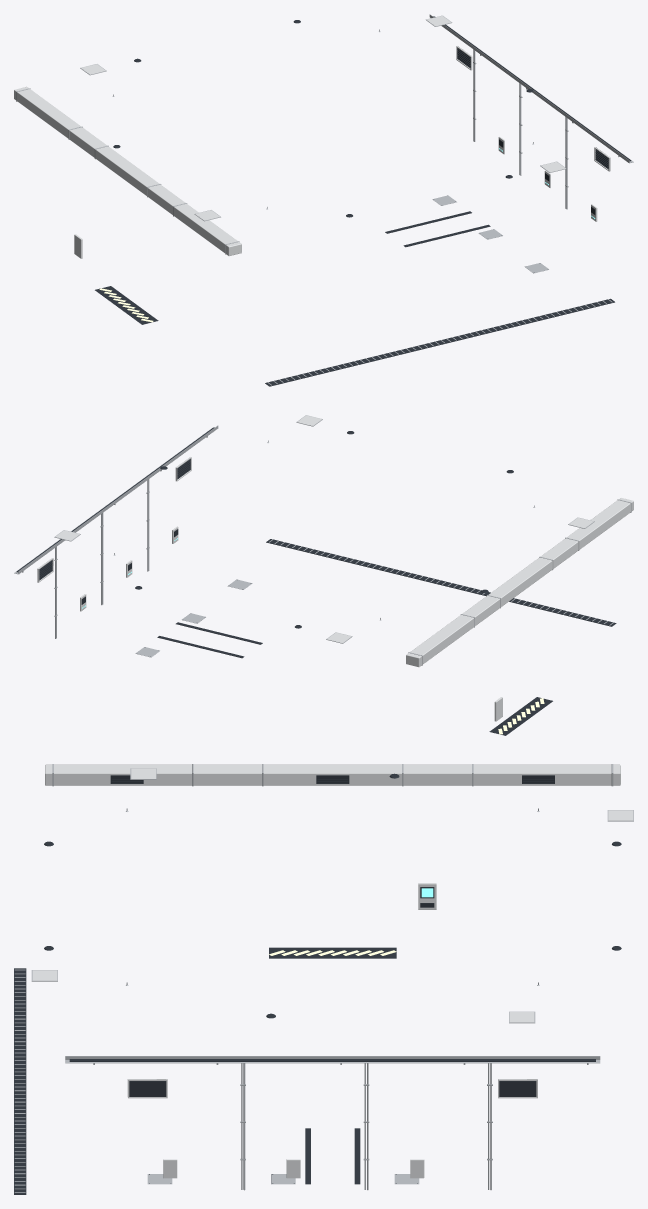
File: LabDetails.fbx
The picture shows the model from 3 angles, top to bottom: view 1: azimuth 30°, elevation 25°; view 2: azimuth 150°, elevation 25°; view 3: azimuth 270°, elevation 25°; orthographic projection. The views are drawn at different scales.
Parts seen in each view (by area): view 1: DET_Duct, DET_WindowGrille, DET_Tray, DET_Conduits, DET_HazardBase, DET_CeilHatch, DET_CableCovers; view 2: DET_Duct, DET_WindowGrille, DET_Tray, DET_Conduits, DET_HazardBase, DET_CeilHatch, DET_CableCovers, DET_Hatches; view 3: DET_Duct, DET_WindowGrille, DET_Tray, DET_Conduits, DET_Cables, DET_HazardBase, DET_Vents, DET_CeilHatch, DET_WindowGrilleSlats, DET_BenchPanels, DET_DuctGrilles, DET_CableCovers (+1 smaller).
Boxes of the visible parts, x1=… form: DET_Duct: x1=14, y1=86, x2=241, y2=255; DET_WindowGrille: x1=265, y1=298, x2=614, y2=386; DET_Tray: x1=429, y1=14, x2=633, y2=163; DET_Conduits: x1=473, y1=49, x2=568, y2=209; DET_HazardBase: x1=95, y1=286, x2=158, y2=324; DET_CeilHatch: x1=81, y1=15, x2=565, y2=220; DET_CableCovers: x1=385, y1=211, x2=490, y2=247; DET_Duct: x1=406, y1=498, x2=633, y2=667; DET_WindowGrille: x1=266, y1=539, x2=616, y2=626; DET_Tray: x1=14, y1=425, x2=218, y2=574; DET_Conduits: x1=54, y1=479, x2=149, y2=638; DET_HazardBase: x1=489, y1=697, x2=552, y2=735; DET_CeilHatch: x1=55, y1=415, x2=593, y2=642; DET_CableCovers: x1=157, y1=622, x2=262, y2=658; DET_Hatches: x1=135, y1=579, x2=252, y2=657; DET_Duct: x1=45, y1=764, x2=620, y2=785; DET_WindowGrille: x1=14, y1=968, x2=26, y2=1194; DET_Tray: x1=65, y1=1056, x2=600, y2=1064; DET_Conduits: x1=240, y1=1063, x2=492, y2=1190; DET_Cables: x1=69, y1=1059, x2=595, y2=1061; DET_HazardBase: x1=269, y1=947, x2=396, y2=958; DET_Vents: x1=129, y1=1081, x2=536, y2=1096; DET_CeilHatch: x1=32, y1=768, x2=633, y2=1022; DET_WindowGrilleSlats: x1=14, y1=969, x2=25, y2=1192; DET_BenchPanels: x1=163, y1=1159, x2=424, y2=1178; DET_DuctGrilles: x1=110, y1=775, x2=554, y2=783; DET_CableCovers: x1=305, y1=1128, x2=360, y2=1184.
Size of the model in its own units: 15.84 by 5 by 15.07.
